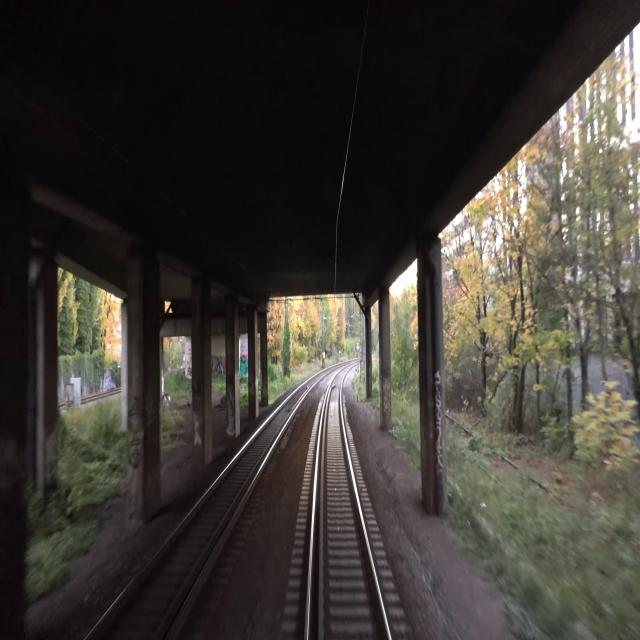rail-track: (89, 386, 305, 639), (309, 370, 386, 639)
